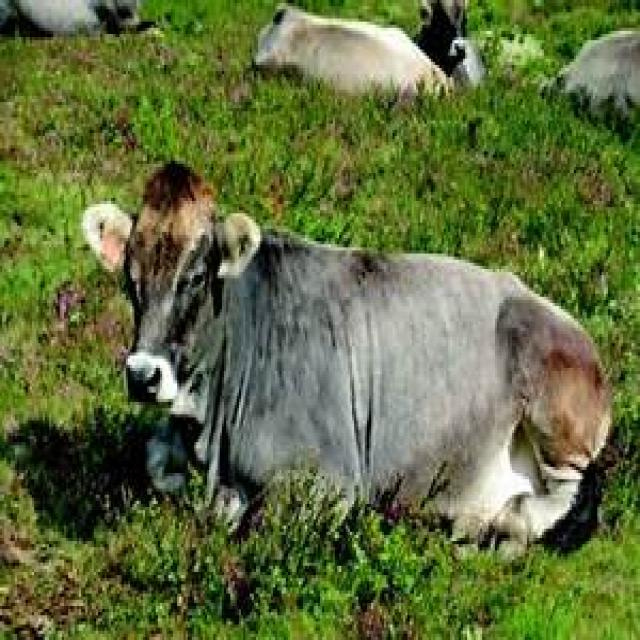cow: (82, 163, 611, 556)
